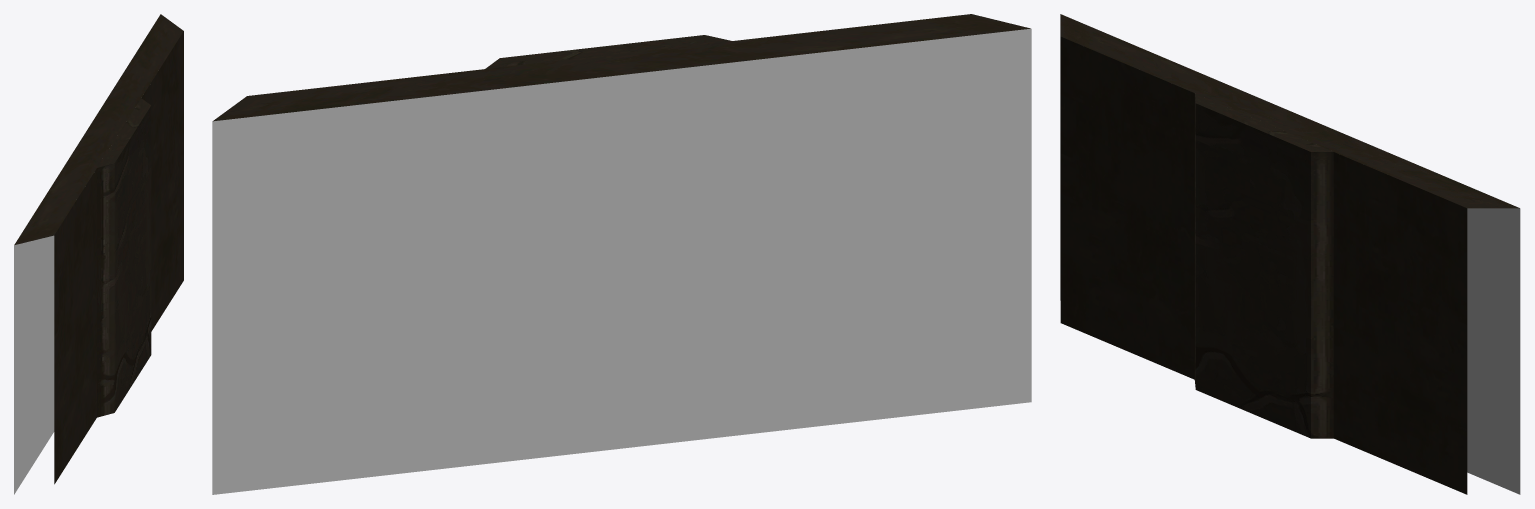
Rendered from fortress_half_diagonal_02.fbx.
3 renders of one model, left to right at view 1: azimuth 30°, elevation 25°; view 2: azimuth 150°, elevation 25°; view 3: azimuth 270°, elevation 25°, orthographic. The views are drawn at different scales.
Parts seen in each view (by area): view 1: fortress_half_diagonal_02-0; view 2: fortress_half_diagonal_02-0; view 3: fortress_half_diagonal_02-0.
Part boxes in pixels (left/top/right/bottom): fortress_half_diagonal_02-0: left=14, top=14, right=183, bottom=494; fortress_half_diagonal_02-0: left=212, top=14, right=1031, bottom=494; fortress_half_diagonal_02-0: left=1060, top=14, right=1520, bottom=494.
Size of the model in its own units: 4 by 2.75 by 4.
